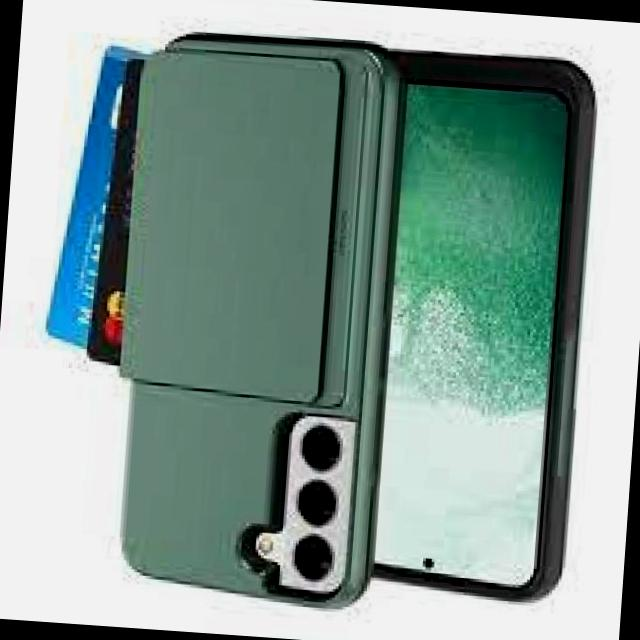lens_back: (278, 410, 364, 476), (278, 473, 360, 534), (284, 533, 349, 589)
phone: (107, 19, 410, 620), (363, 40, 610, 612)
